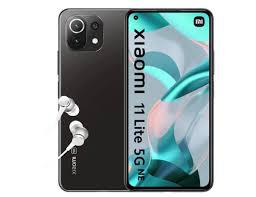Smartphone: (125, 8, 211, 187), (58, 12, 130, 191)
